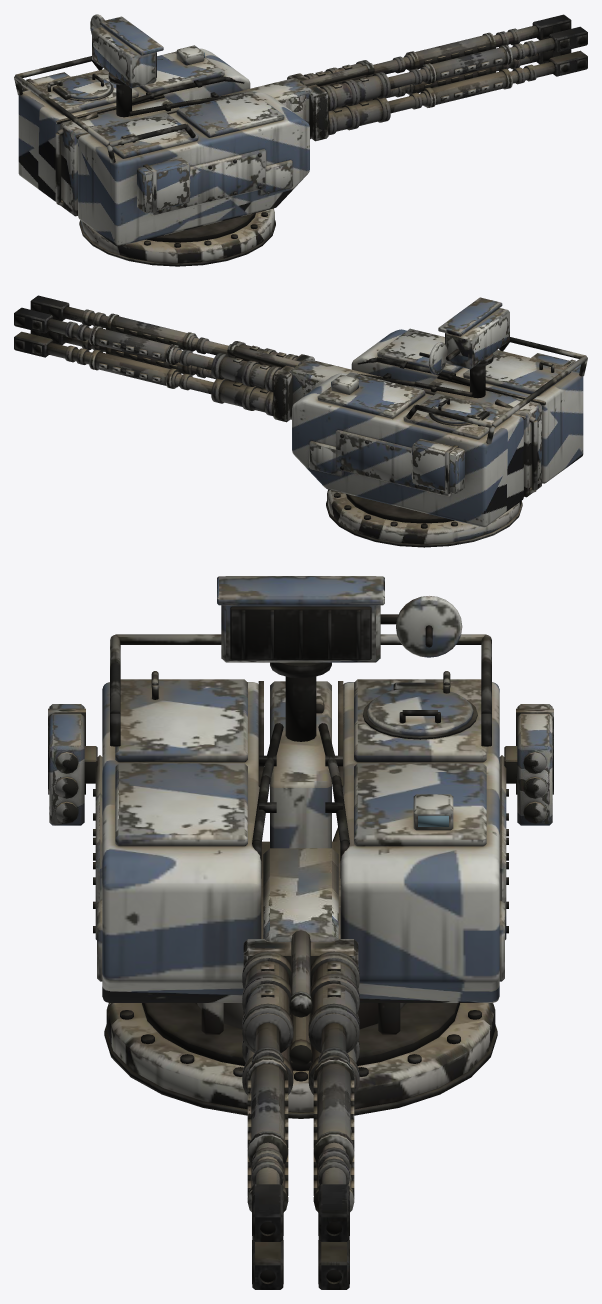
The model's file is turret_kit_quad_dazzle.glb.
3 renders of one model, top to bottom at view 1: azimuth 30°, elevation 25°; view 2: azimuth 150°, elevation 25°; view 3: azimuth 270°, elevation 25°, orthographic. The views are drawn at different scales.
Parts seen in each view (by area): view 1: turret_twin_quad, guns, pods; view 2: turret_twin_quad, guns, pods; view 3: turret_twin_quad, guns, pods.
Boxes of the visible parts, x1,y1,x2,y2 form: turret_twin_quad: (14,14,309,266); guns: (220,14,587,141); pods: (20,72,190,213); turret_twin_quad: (292,297,587,547); guns: (14,295,382,422); pods: (411,353,581,494); turret_twin_quad: (93,576,508,1118); guns: (242,848,359,1289); pods: (48,704,553,825).
Bounding box in the file's own units: 2.7 × 1.01 × 1.15.
Materials: 4 (3 with a texture image).
